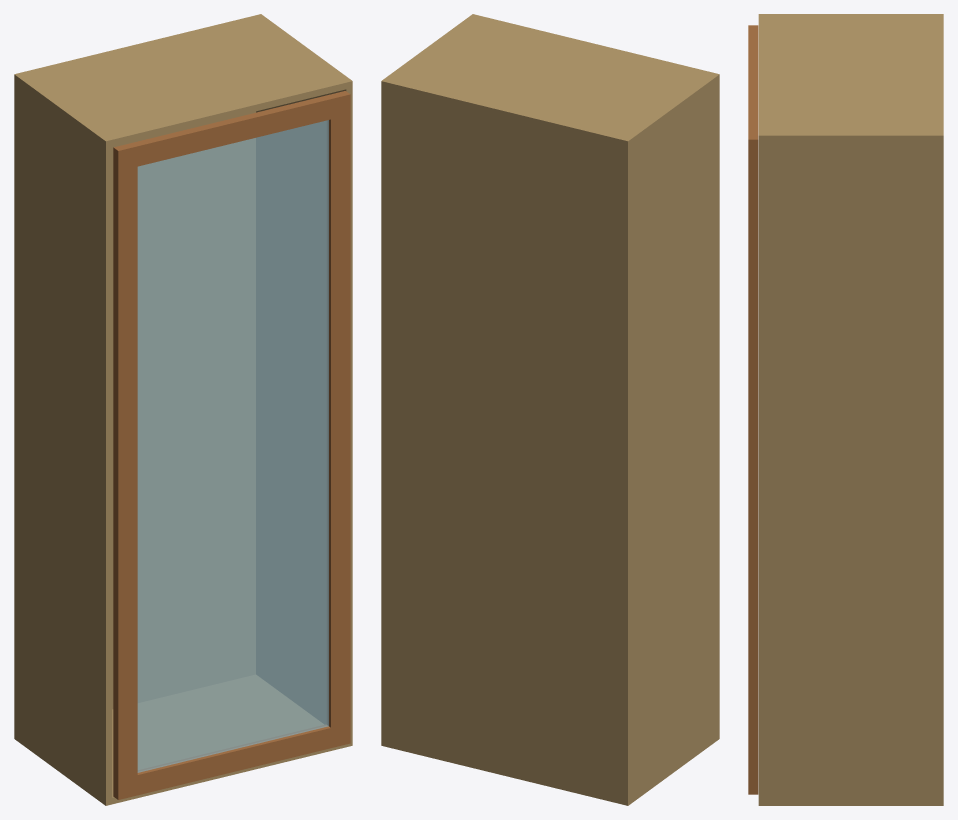
The model's file is cabinet.glb.
The picture shows the model from 3 angles, left to right: view 1: azimuth 30°, elevation 25°; view 2: azimuth 150°, elevation 25°; view 3: azimuth 270°, elevation 25°; orthographic projection.
Visible parts, largest first — view 1: G001, P001, P005, P002, P003, D001, D002, P004, D003, D004; view 2: P005, P001, P003, P002, P004; view 3: P002, P003, D002, D003, P001.
Part boxes in pixels (x1,y1,x2,y2): G001: (137, 120, 328, 772); P001: (14, 72, 112, 805); P005: (112, 111, 255, 709); P002: (255, 14, 352, 747); P003: (21, 15, 346, 146); D001: (113, 142, 137, 799); D002: (326, 91, 350, 747); P004: (112, 675, 346, 804); D003: (133, 95, 330, 166); D004: (137, 725, 330, 795); P005: (387, 89, 621, 797); P001: (621, 72, 719, 805); P003: (387, 15, 712, 146); P002: (381, 14, 478, 747); P004: (387, 741, 621, 804); P002: (758, 132, 943, 805); P003: (758, 17, 943, 132); D002: (748, 130, 758, 794); D003: (748, 35, 758, 130); P001: (758, 14, 943, 16).
Size of the model in its own units: 0.7 by 1.8 by 0.475.
